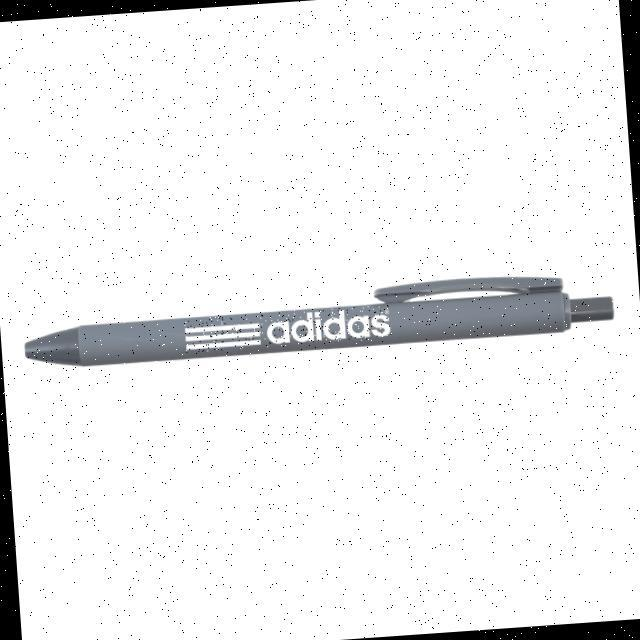Adidas: (184, 305, 393, 353)
